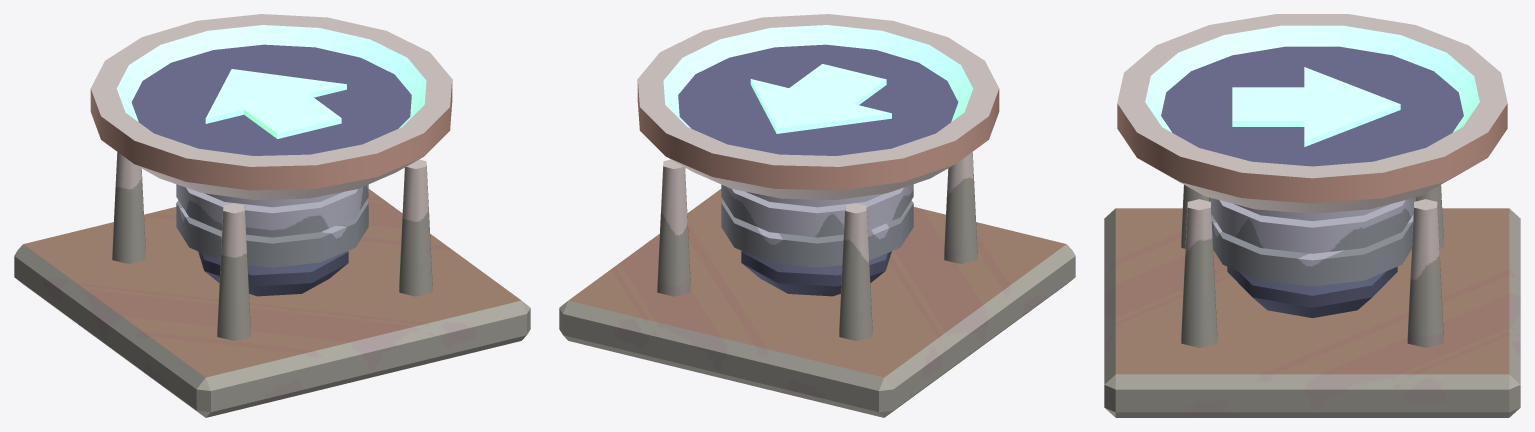
Rendered from R4X_JumpPadDeployer_LOD1.glb.
3 views of the same model, side by side, from view 1: azimuth 30°, elevation 25°; view 2: azimuth 150°, elevation 25°; view 3: azimuth 270°, elevation 25° (orthographic). The views are drawn at different scales.
Parts seen in each view (by area): view 1: R4X_JumpPadDeployer_LOD1; view 2: R4X_JumpPadDeployer_LOD1; view 3: R4X_JumpPadDeployer_LOD1.
Part boxes in pixels (x1,y1,x2,y2): R4X_JumpPadDeployer_LOD1: (14, 14, 530, 417); R4X_JumpPadDeployer_LOD1: (559, 14, 1075, 417); R4X_JumpPadDeployer_LOD1: (1104, 14, 1520, 417).
Size of the model in its own units: 0.52 by 0.33 by 0.52.
5 materials, 4 textured.
